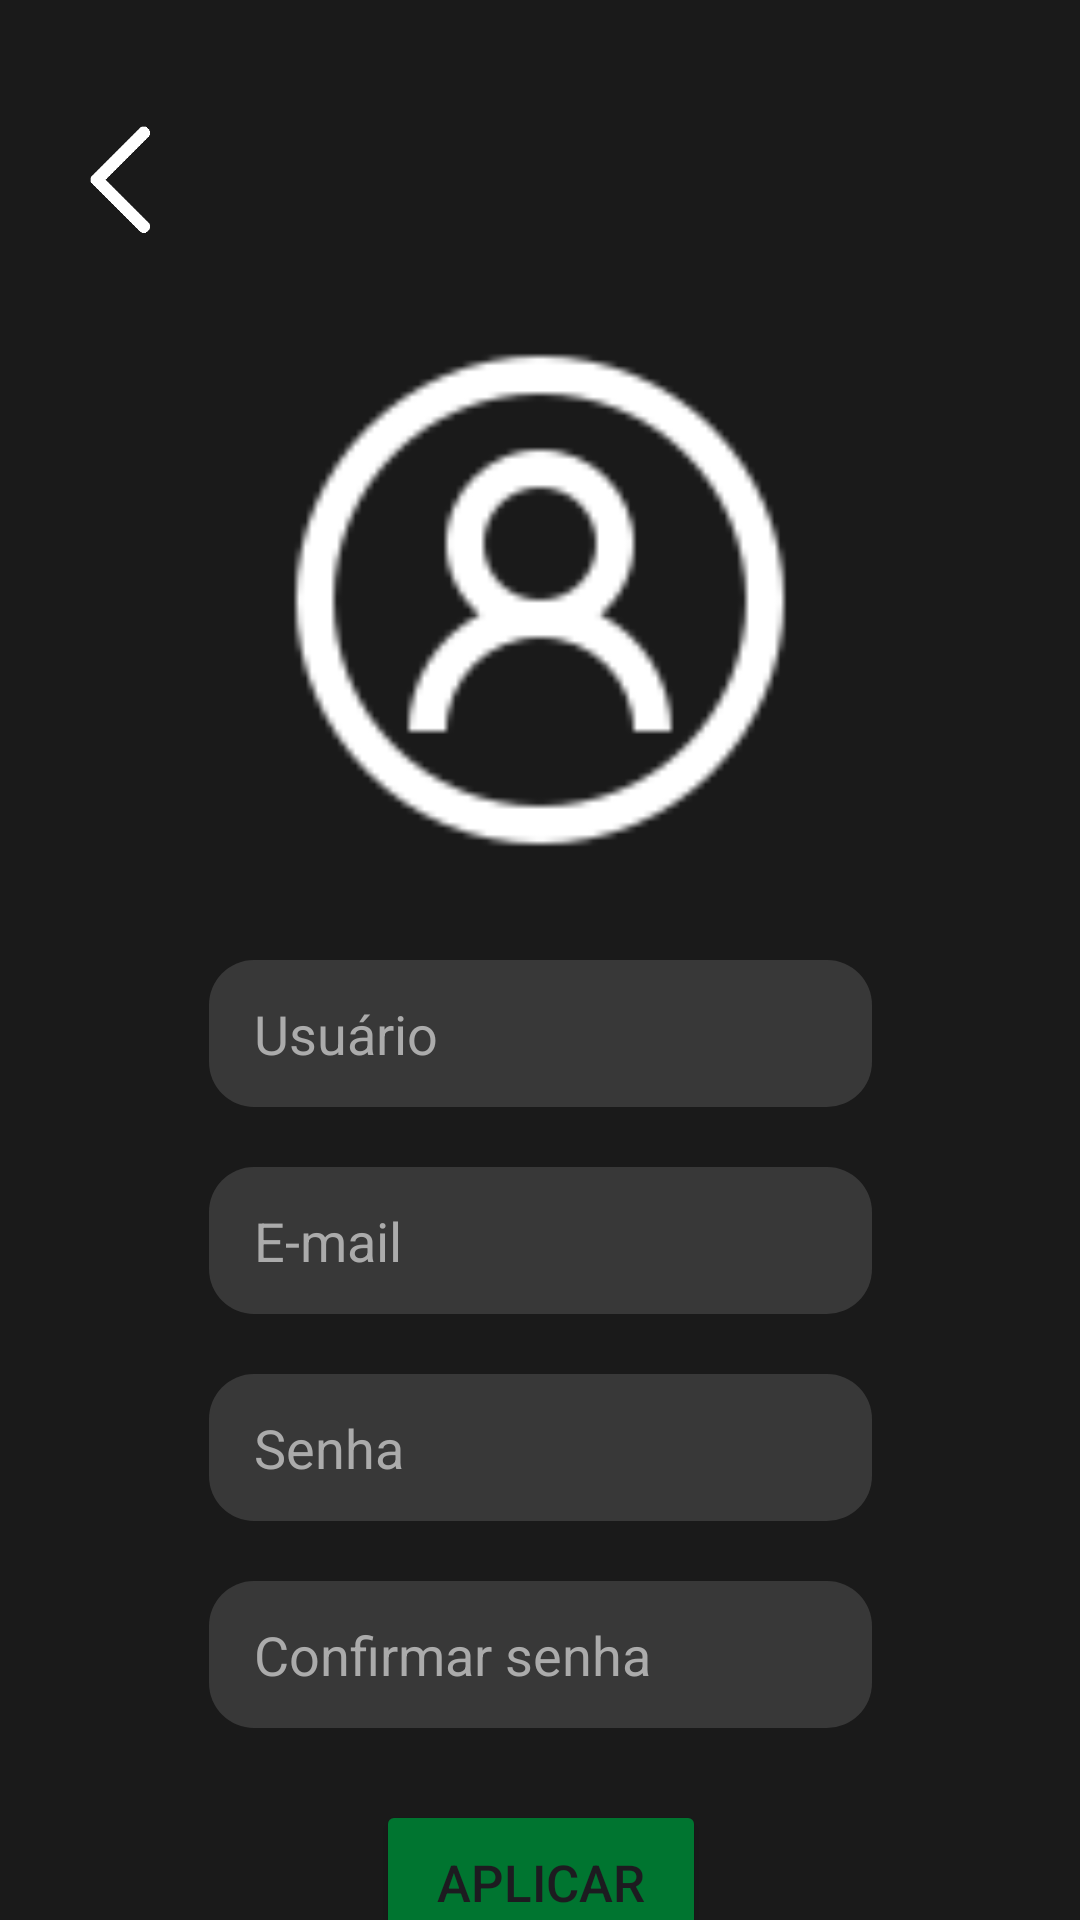

Icons on this 1080px×1920px Android screen, each with the point to tap as point (x, y):
Voltar: point (120, 179)
